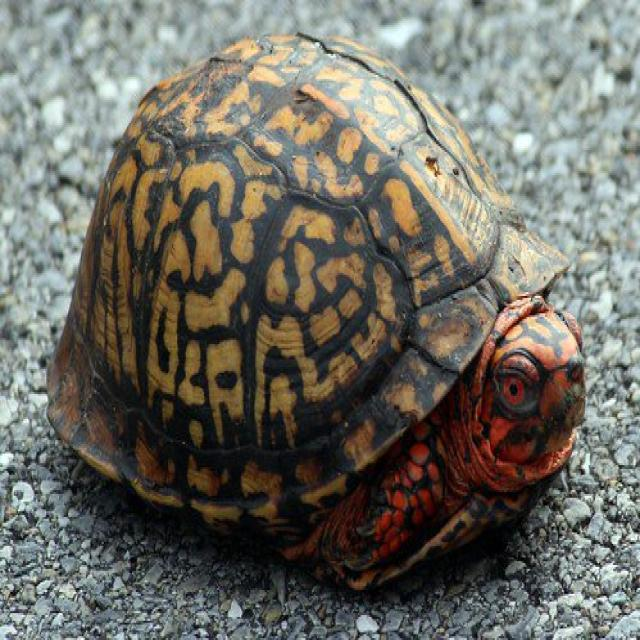turtle: (128, 16, 613, 600)
